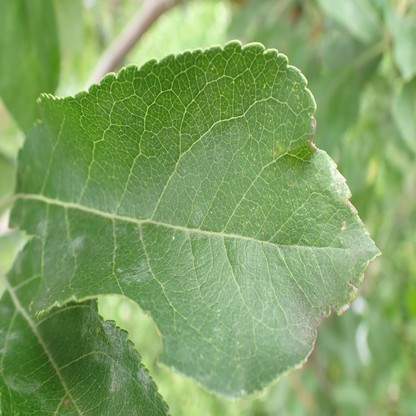powder: (80, 301, 150, 395), (46, 217, 84, 282), (278, 289, 317, 344), (117, 260, 150, 285), (4, 376, 41, 394), (0, 330, 19, 357), (14, 247, 26, 276), (36, 220, 51, 236), (193, 209, 201, 227), (0, 304, 10, 313)
